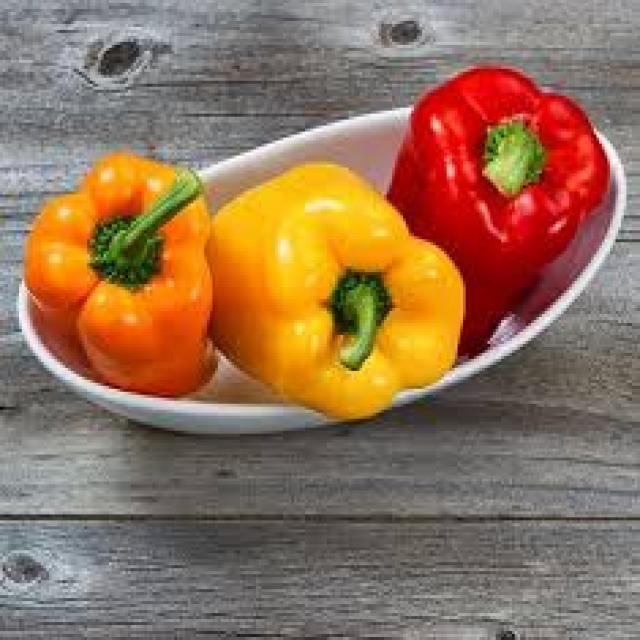Pepper: (384, 65, 624, 386), (202, 162, 477, 422), (25, 157, 218, 399)
